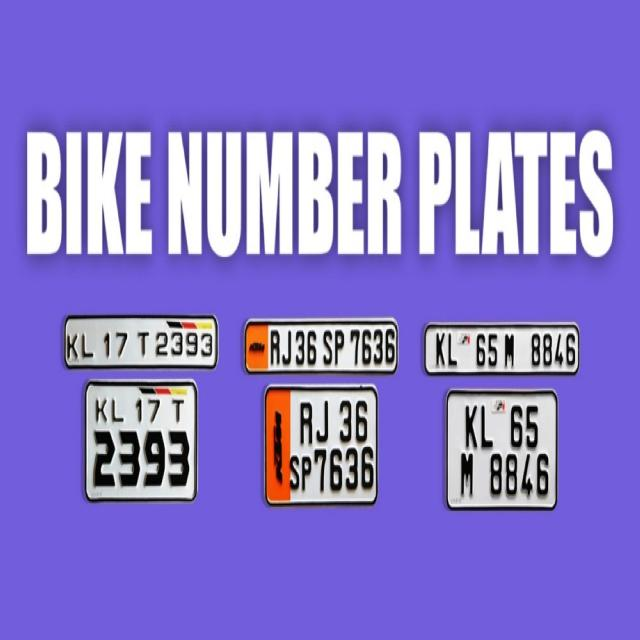plate: (264, 385, 377, 505), (87, 380, 198, 501), (446, 393, 558, 506), (244, 318, 398, 376), (424, 322, 579, 376), (65, 318, 218, 370), (534, 637, 640, 640)
